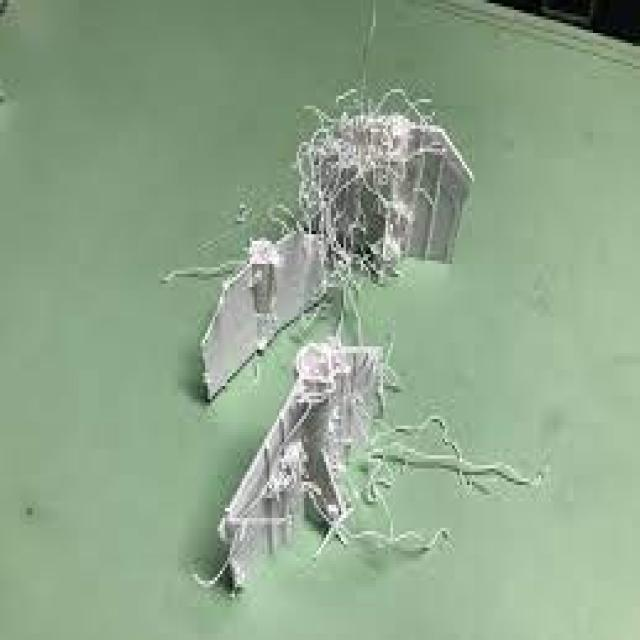spaghetti: (251, 392, 561, 549), (260, 68, 421, 257), (260, 238, 462, 302)
